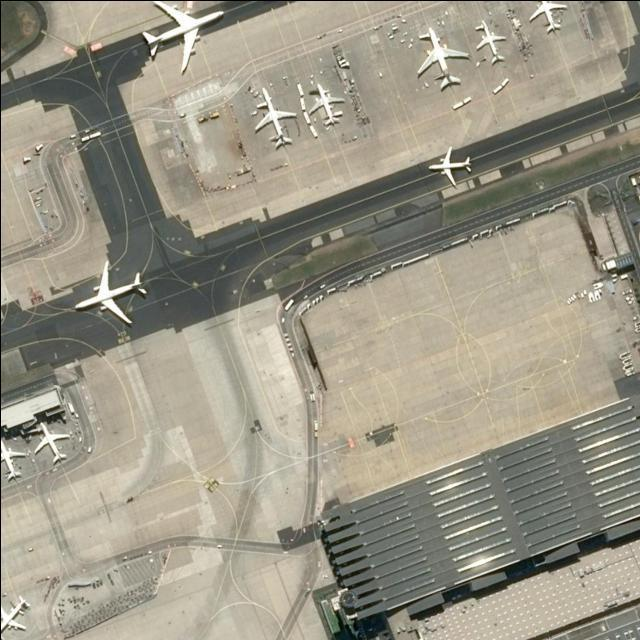Aircraft: (140, 2, 226, 75), (141, 2, 227, 73), (74, 260, 151, 327), (74, 260, 149, 327), (415, 27, 469, 87), (415, 28, 469, 88), (253, 86, 298, 146), (253, 88, 297, 148), (428, 145, 476, 187), (306, 79, 348, 127), (428, 145, 474, 188), (29, 419, 71, 461), (32, 420, 72, 464), (308, 82, 347, 126), (474, 19, 509, 65), (0, 595, 34, 640), (0, 595, 32, 640), (474, 21, 508, 61), (526, 2, 569, 33), (528, 1, 568, 34), (0, 436, 28, 482), (0, 438, 25, 480)
